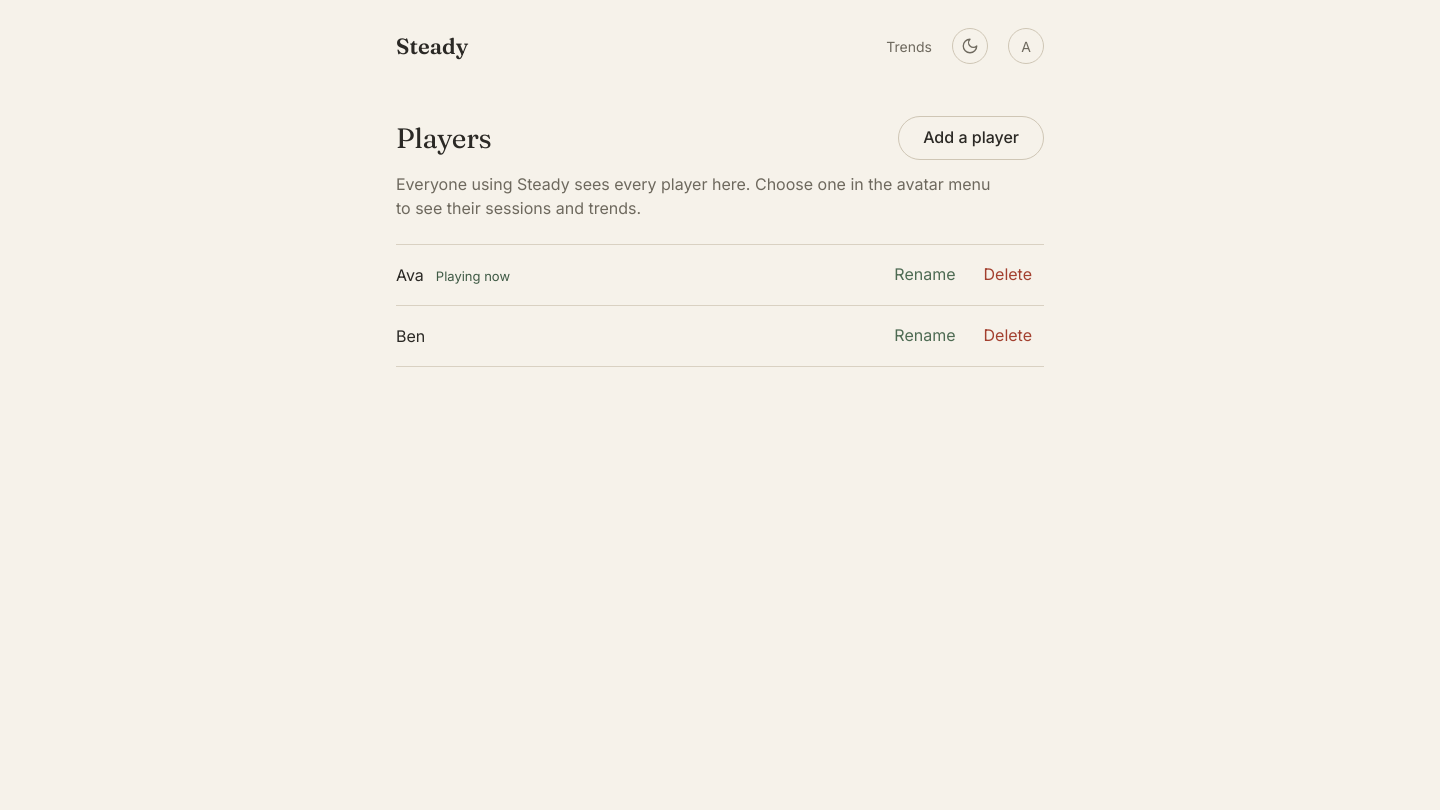
Test: Shared player list (Spec 016) › adds a player on the server and reads the list again, keeping the selection
The width and height of the screenshot is (1440, 810).
Click the button "Add a player" at (971,138), box [898,116,1044,160]
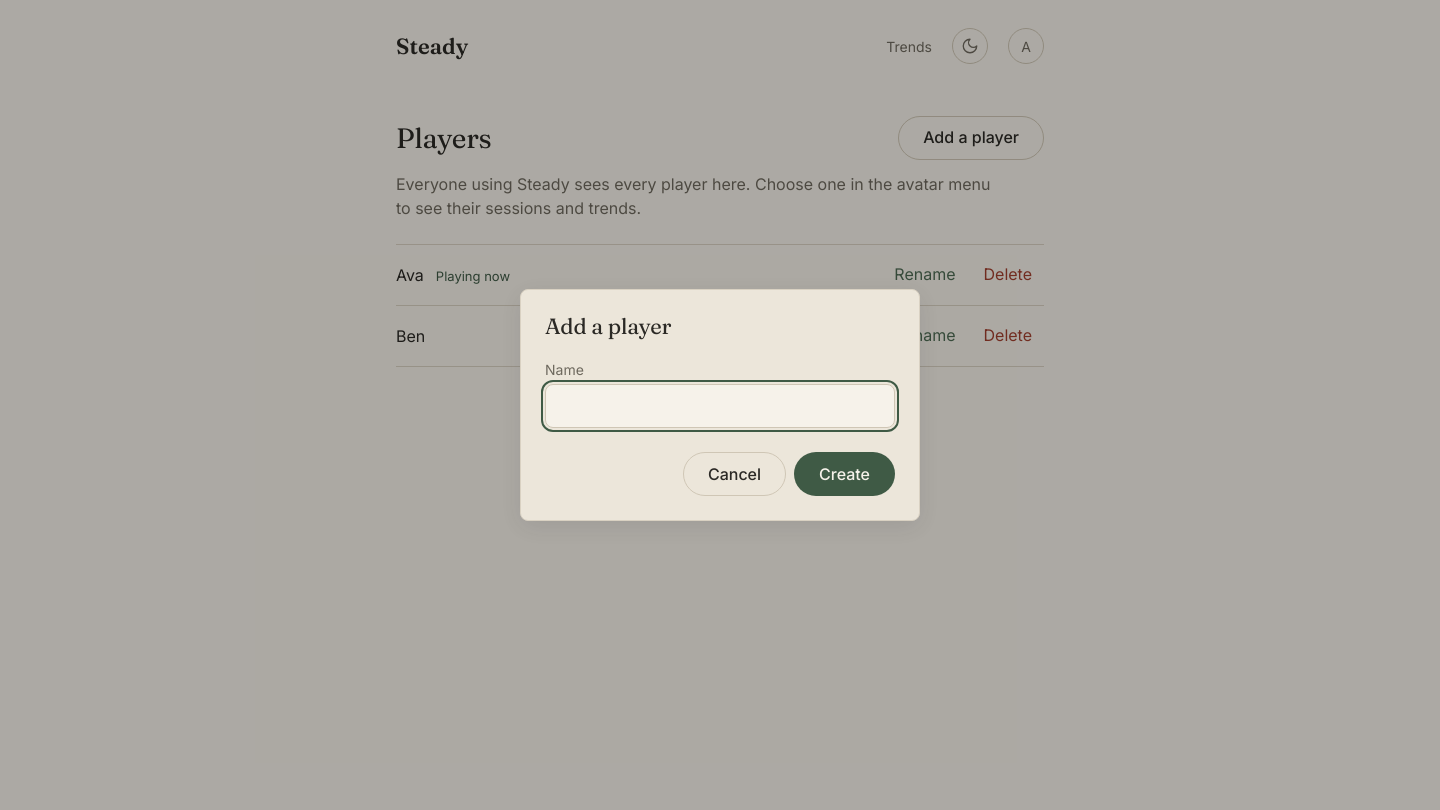
Type "Sam" into the field labelled "Name" at (720,406), box [545,384,895,428]
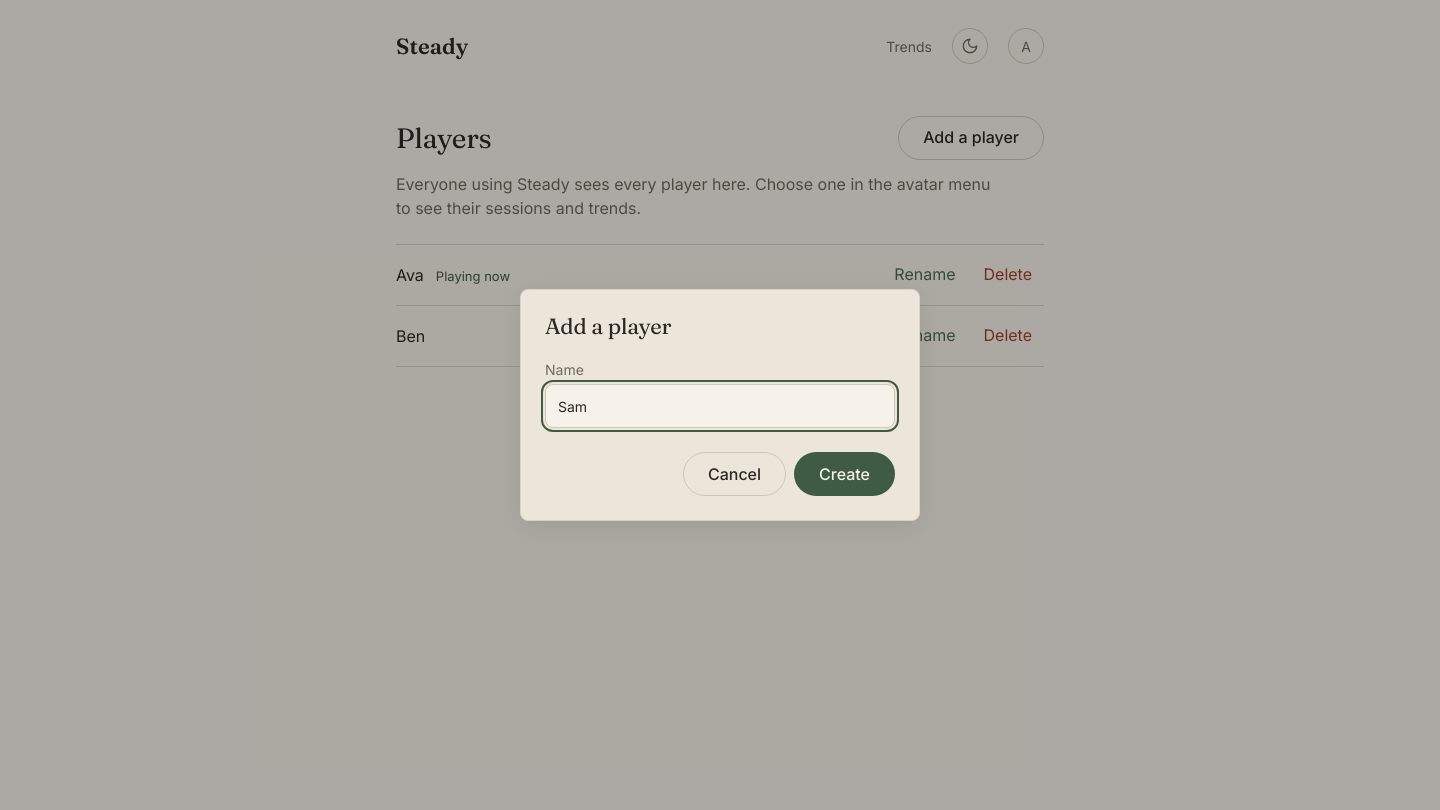
Click the button "Create" at (844,474), box [794,452,895,496]
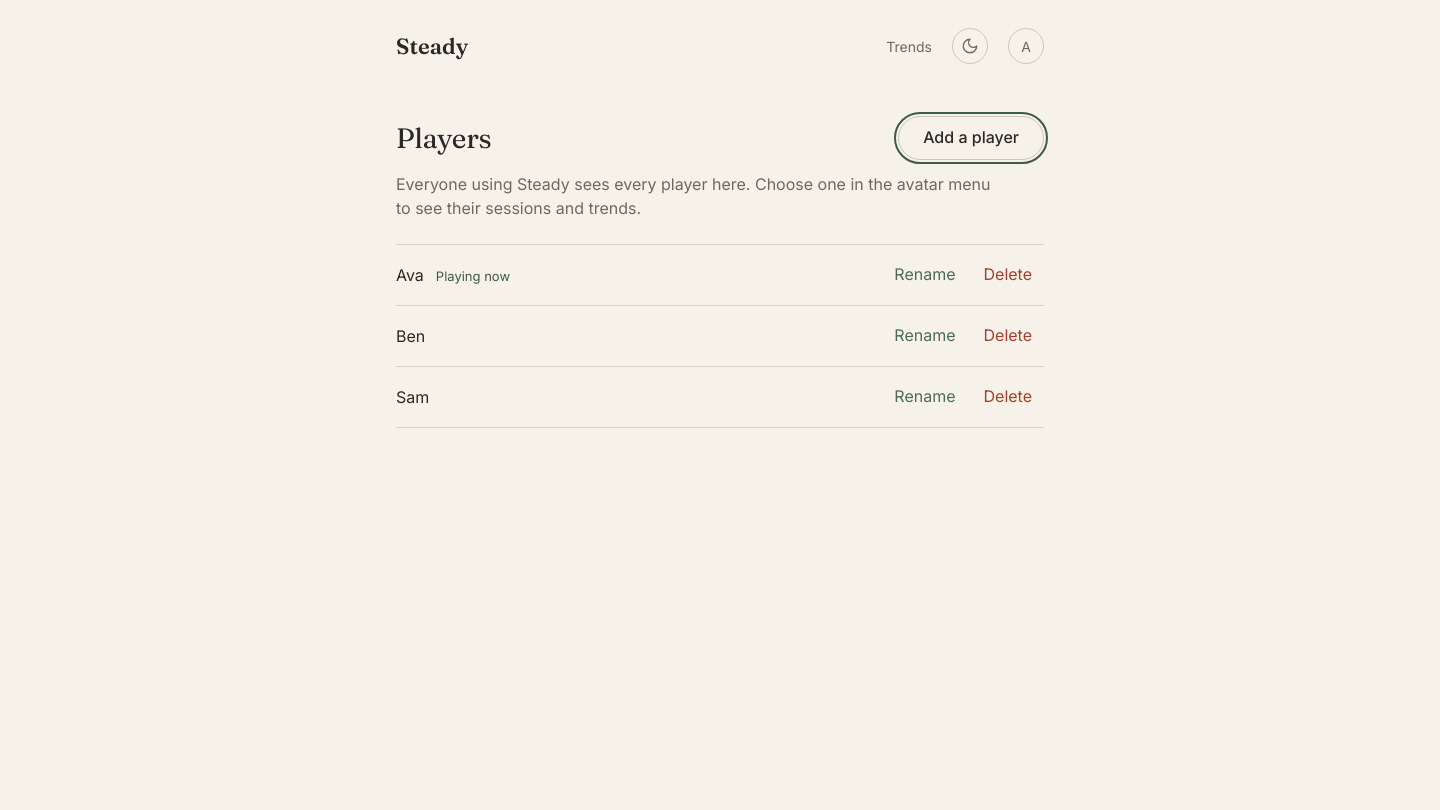
Check: the button named "Player: Ava" is shown, box [1008,28,1044,64]
Check: the text "Sam" is shown, box [396,385,429,409]
